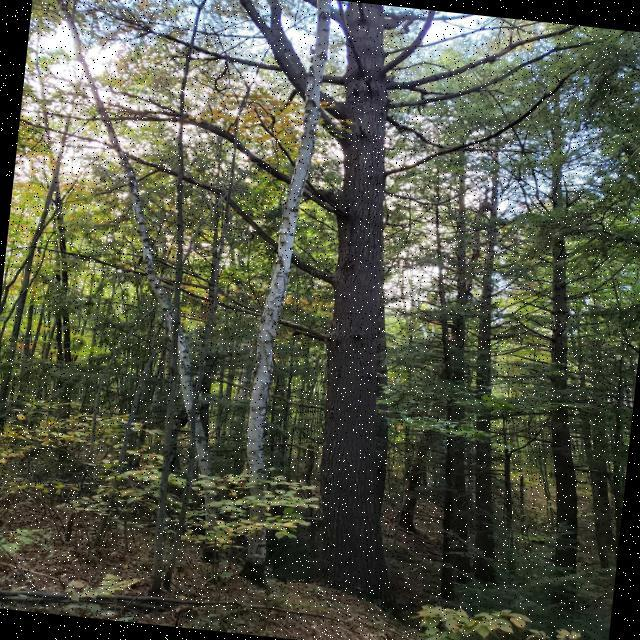fallen_object: (0, 552, 408, 640)
